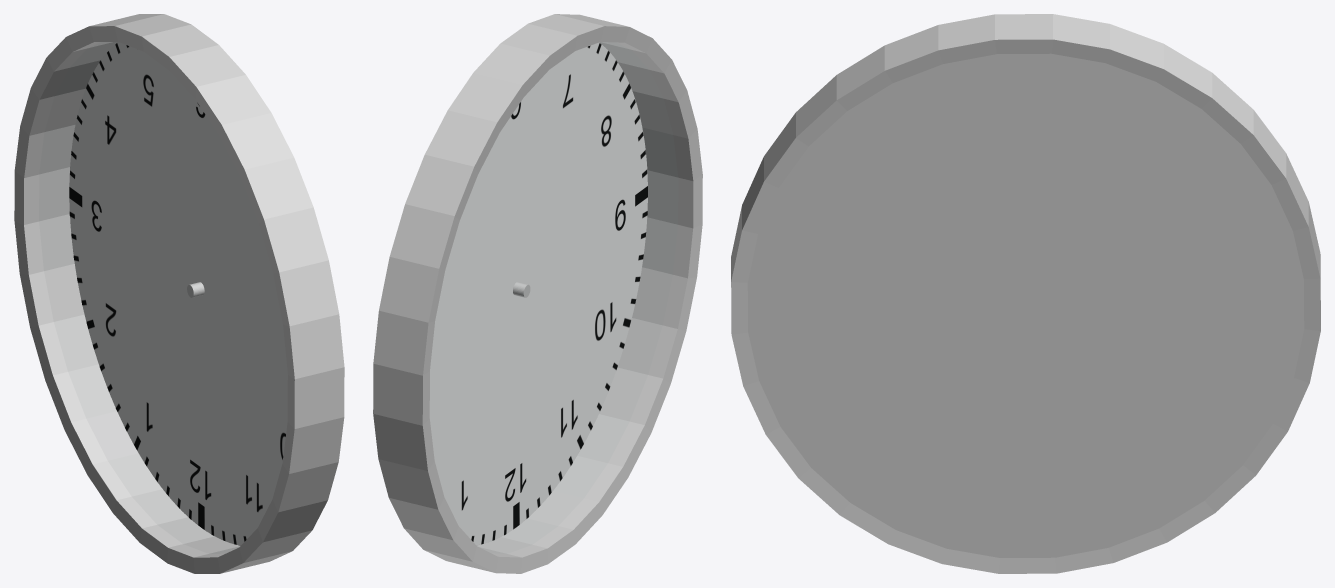
The model's file is Clock.fbx.
The picture shows the model from 3 angles, left to right: view 1: azimuth 30°, elevation 25°; view 2: azimuth 150°, elevation 25°; view 3: azimuth 270°, elevation 25°; orthographic projection. The views are drawn at different scales.
Parts seen in each view (by area): view 1: Clock; view 2: Clock; view 3: Clock.
Boxes of the visible parts, x1=… form: Clock: x1=14, y1=14, x2=344, y2=573; Clock: x1=373, y1=14, x2=702, y2=573; Clock: x1=731, y1=14, x2=1320, y2=573.
Bounding box in the file's own units: 3.29 × 32.12 × 32.12.
3 materials, 1 textured.
